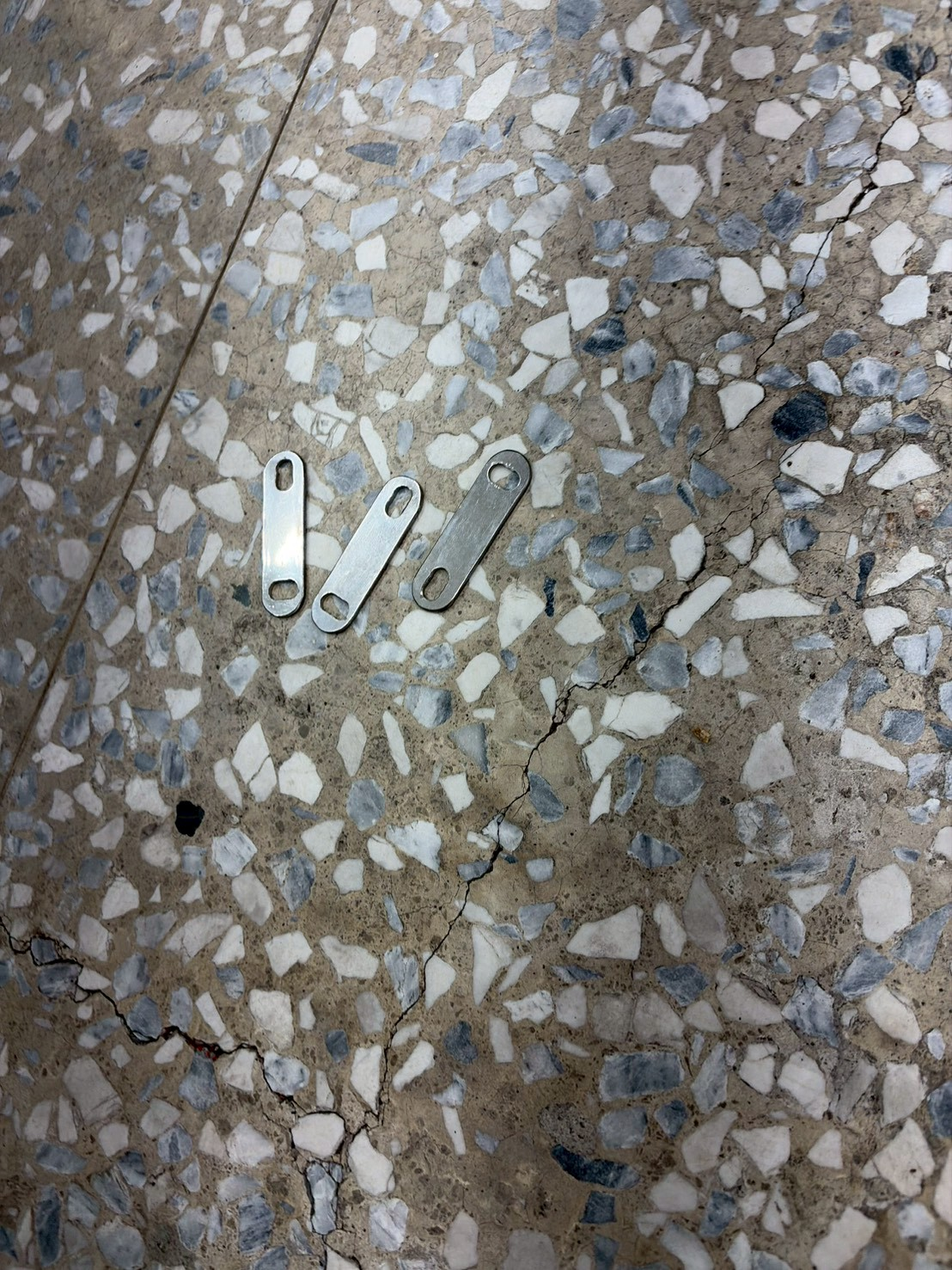Fe: (499, 438, 550, 625), (257, 444, 306, 621), (390, 467, 438, 644)
